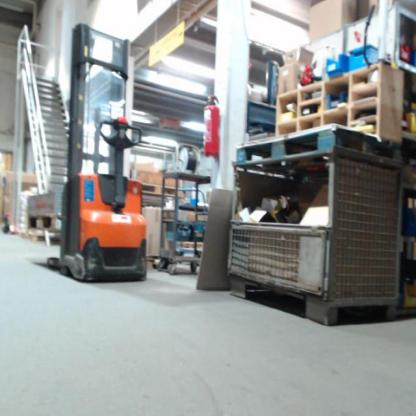pallet: (235, 122, 344, 158), (27, 211, 64, 233)
pallet_truck: (39, 20, 150, 287)
stillage: (231, 161, 404, 327)
